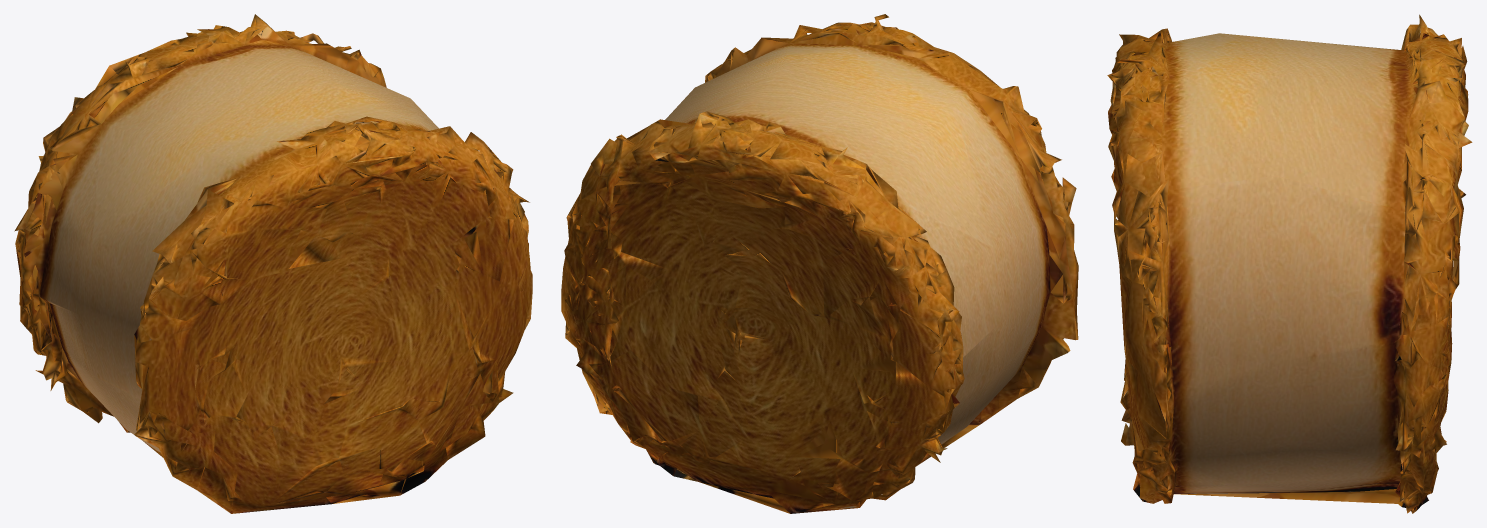
File: haybale_textured.glb
3 renders of one model, left to right at view 1: azimuth 30°, elevation 25°; view 2: azimuth 150°, elevation 25°; view 3: azimuth 270°, elevation 25°, orthographic. The views are drawn at different scales.
Visible parts, largest first — view 1: temp_mesh.ply; view 2: temp_mesh.ply; view 3: temp_mesh.ply.
Part boxes in pixels (x1,y1,x2,y2): temp_mesh.ply: (14, 14, 532, 513); temp_mesh.ply: (561, 14, 1078, 513); temp_mesh.ply: (1107, 14, 1472, 513).
Bounding box in the file's own units: 1.89 × 1.74 × 1.38.
1 material, 1 textured.
